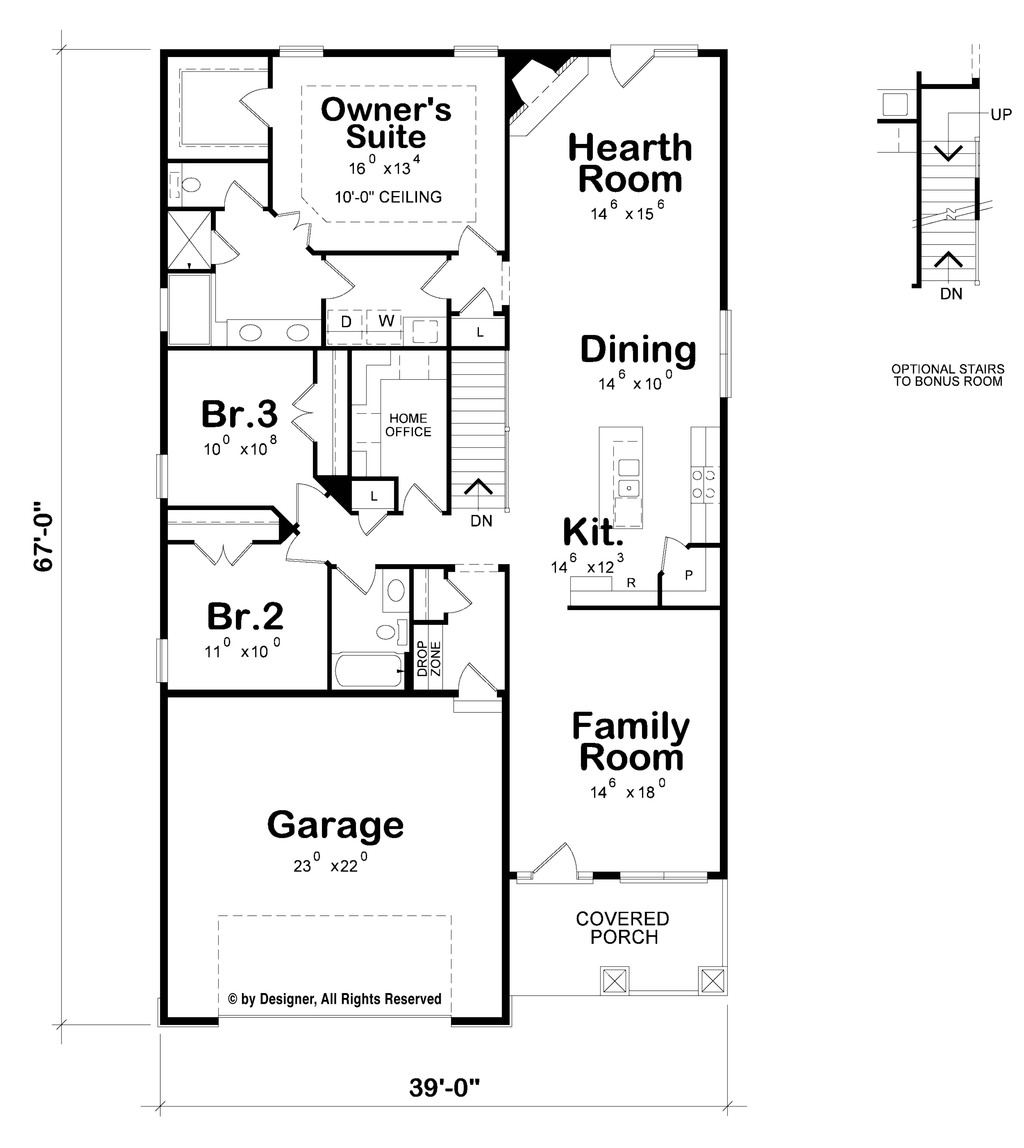door: (595, 37, 670, 88), (325, 549, 390, 599), (283, 374, 324, 453), (450, 215, 511, 265), (527, 833, 581, 888), (188, 533, 261, 572), (447, 660, 499, 713), (272, 201, 322, 253), (217, 178, 279, 219), (650, 522, 692, 580), (431, 569, 477, 621), (284, 522, 325, 574), (231, 83, 275, 131), (399, 472, 440, 521), (284, 481, 327, 526), (450, 285, 508, 317), (418, 251, 456, 299), (313, 253, 352, 297)
large_sink: (163, 165, 213, 212), (379, 608, 415, 647)
small_sink: (213, 312, 322, 347), (384, 571, 406, 608)
stairs: (917, 69, 1009, 304), (445, 342, 517, 515)
tub: (325, 649, 409, 688)
twin_sink: (613, 453, 652, 508)
window: (151, 449, 183, 513), (447, 33, 511, 63), (613, 872, 715, 888), (275, 38, 331, 65), (154, 281, 179, 333), (156, 636, 178, 688)
